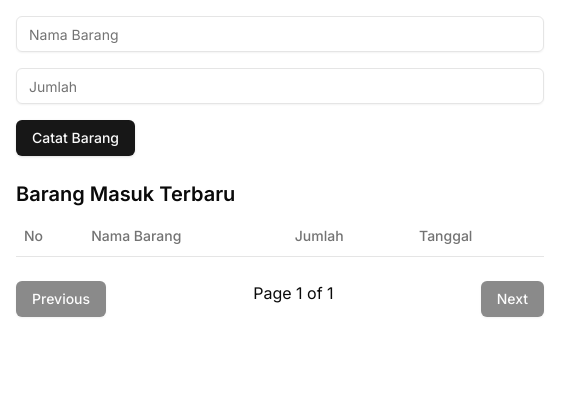
HomePage › shows error if quantity exceeds 100
In the field with placeholder "Nama Barang": (280, 34) [16,16,544,52], type "Laptop"
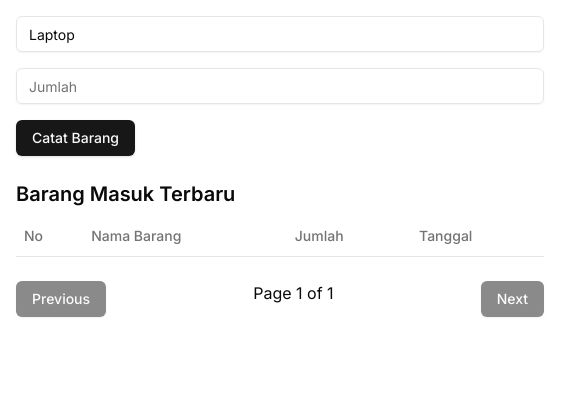
In the number field with placeholder "Jumlah": (280, 86) [16,68,544,104], type "101"
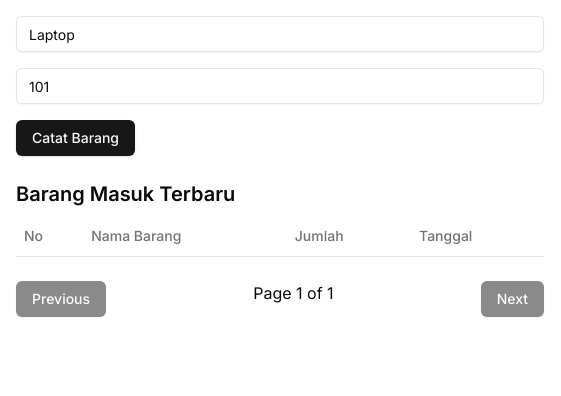
Click the button "Catat Barang": (76, 138) [16,120,135,156]
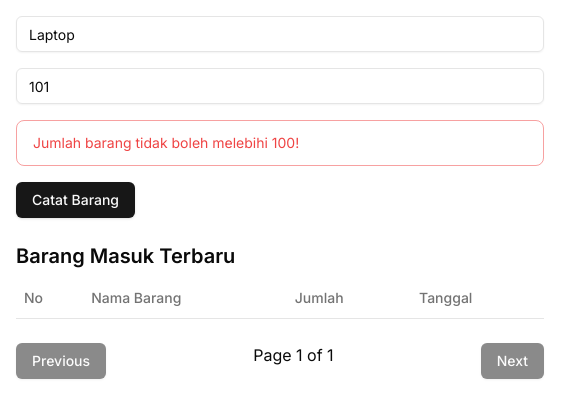
Expected: the text "Jumlah barang tidak boleh melebihi 100!" is shown, [16,120,544,166]
